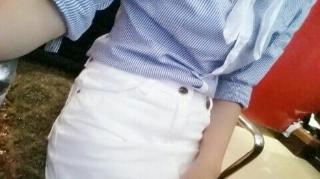short sleeve top: (44, 0, 318, 110)
skirt: (45, 50, 214, 178)
